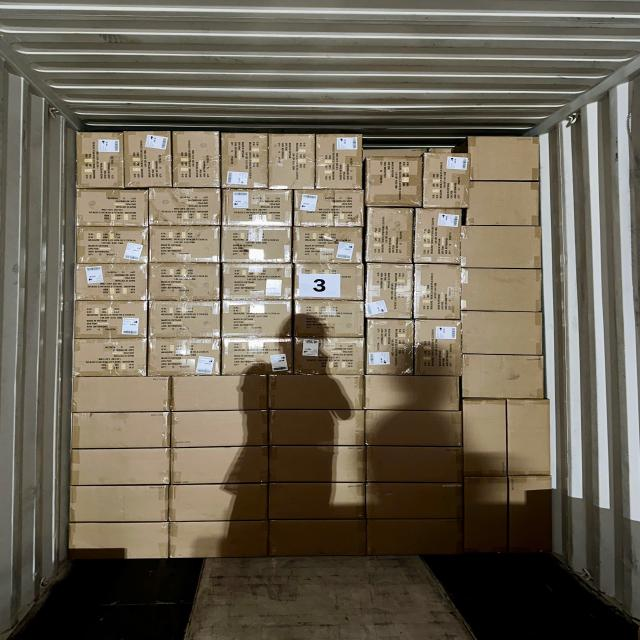Carton: (220, 189, 292, 265), (220, 263, 291, 338), (173, 408, 271, 448), (272, 522, 370, 562), (71, 523, 171, 562), (69, 450, 168, 489), (69, 412, 169, 450), (171, 484, 271, 522), (173, 449, 270, 488), (462, 353, 544, 399), (173, 372, 271, 410), (72, 485, 170, 523), (170, 522, 268, 560), (365, 448, 460, 487), (462, 312, 546, 356), (364, 482, 460, 520), (363, 410, 459, 448), (463, 223, 544, 268), (368, 522, 463, 560), (462, 269, 544, 313), (272, 483, 369, 520), (271, 372, 367, 409), (75, 374, 171, 411), (464, 397, 508, 476), (362, 373, 458, 409), (510, 397, 554, 475), (465, 479, 509, 557), (511, 480, 555, 558), (366, 150, 425, 207), (74, 264, 147, 310), (467, 182, 539, 228), (467, 134, 538, 180), (76, 190, 150, 228), (219, 302, 291, 341), (73, 304, 146, 342), (126, 130, 173, 189), (176, 129, 223, 188), (363, 264, 412, 320), (363, 205, 411, 262), (364, 319, 412, 376), (148, 188, 220, 226), (221, 132, 268, 190), (292, 190, 363, 228), (292, 303, 363, 341), (292, 338, 363, 376), (150, 264, 221, 302), (414, 264, 462, 320), (415, 207, 463, 263), (316, 135, 364, 191), (76, 132, 124, 188), (148, 225, 220, 262), (75, 340, 149, 376), (150, 339, 222, 376), (292, 225, 362, 263), (78, 226, 151, 262), (292, 265, 363, 302), (220, 339, 291, 376), (270, 132, 316, 189), (416, 319, 462, 376), (223, 226, 295, 262), (150, 300, 222, 336), (269, 447, 335, 486), (422, 151, 467, 207), (270, 408, 332, 446), (335, 447, 367, 485), (336, 410, 366, 447)
